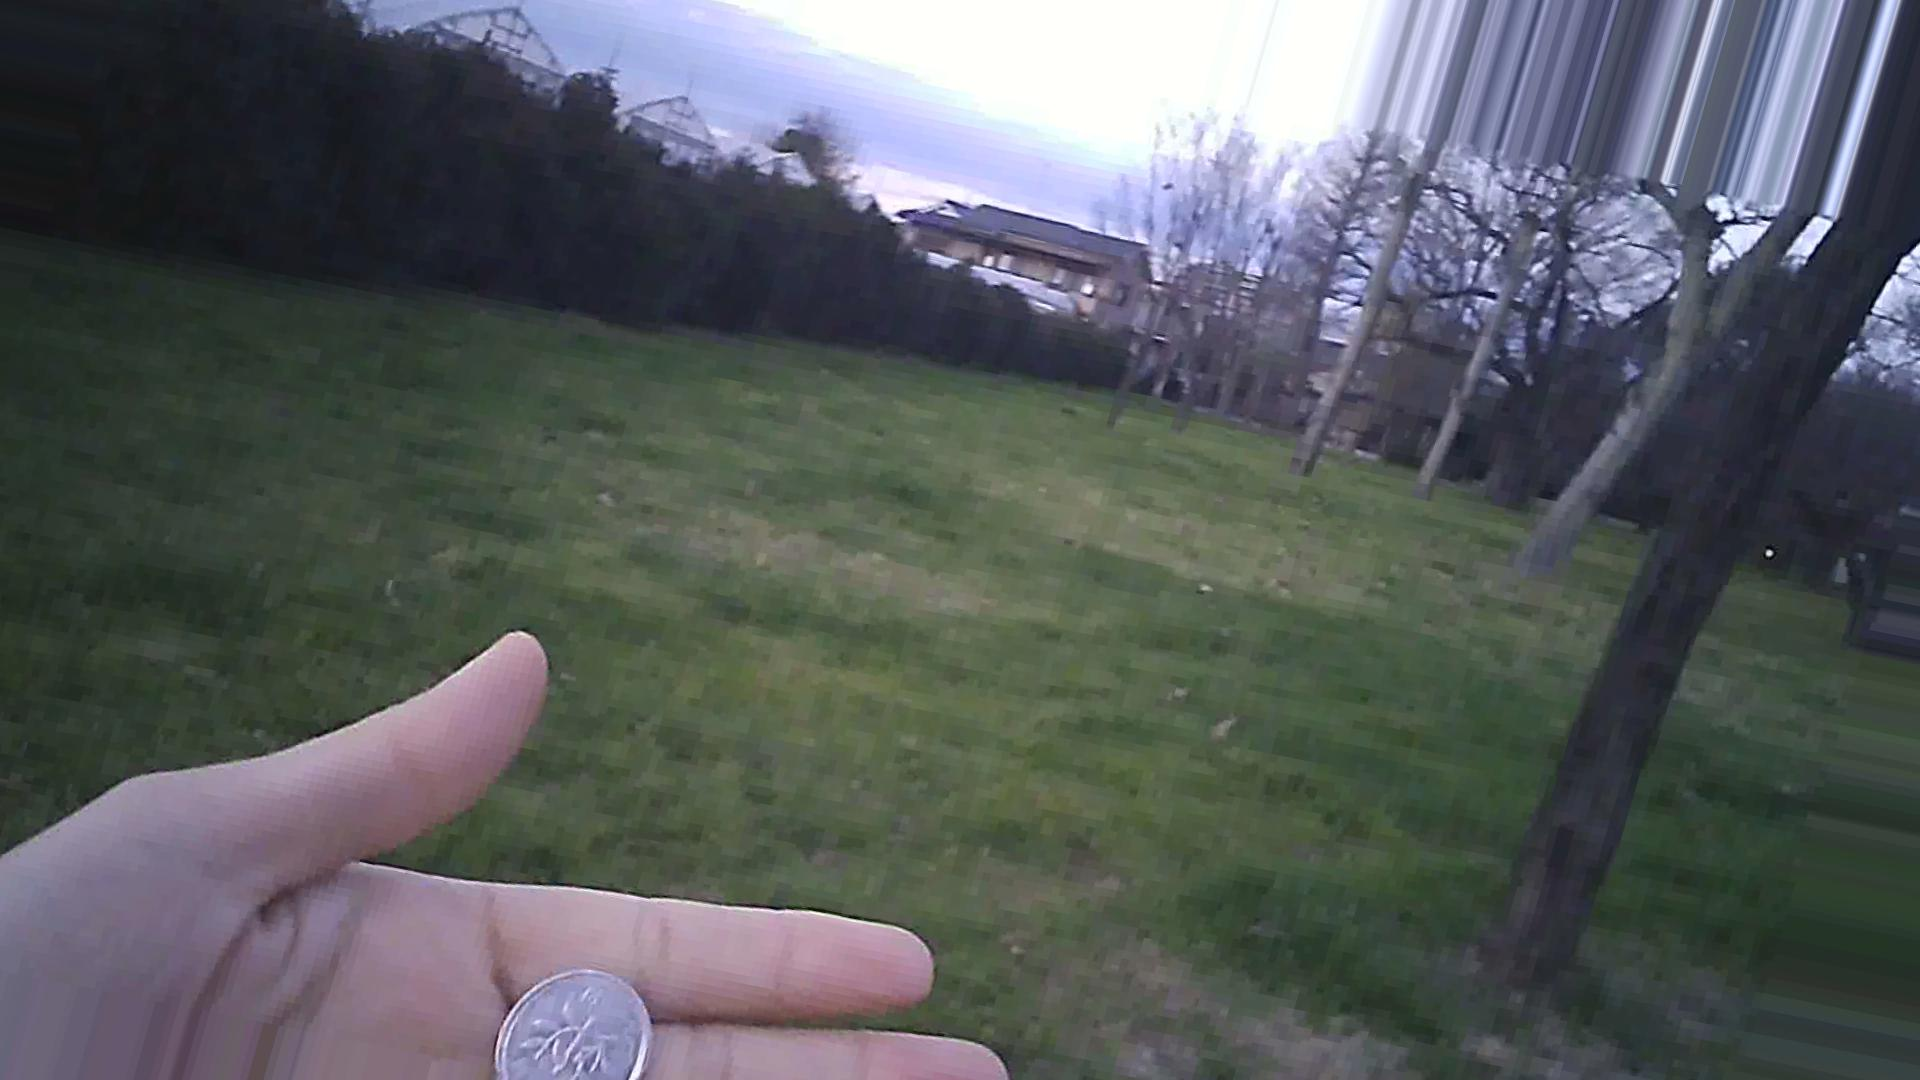1 Yen: (462, 953, 669, 1079)
